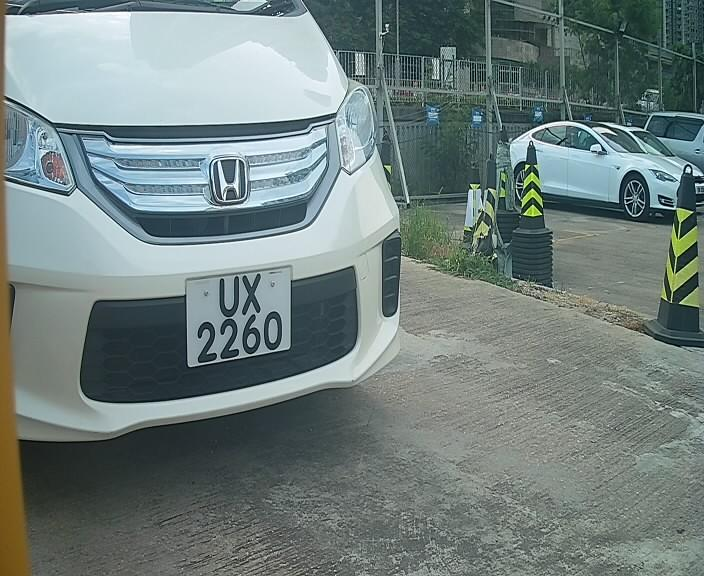License Plate: (183, 260, 296, 379)
